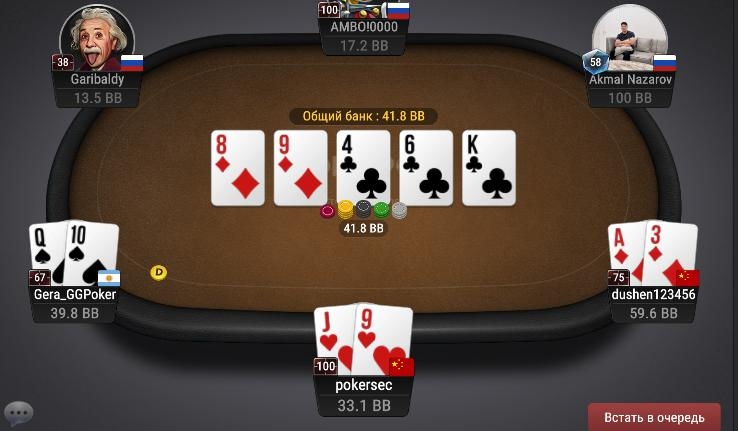10s: (65, 222, 118, 290)
3d: (646, 219, 698, 288)
4c: (338, 132, 390, 204)
6c: (401, 129, 452, 205)
8d: (211, 129, 265, 205)
9d: (275, 132, 327, 208)
9h: (355, 304, 412, 375)
Ad: (609, 223, 645, 287)
Jh: (312, 305, 355, 378)
Kc: (463, 131, 514, 205)
Qs: (29, 222, 67, 286)
